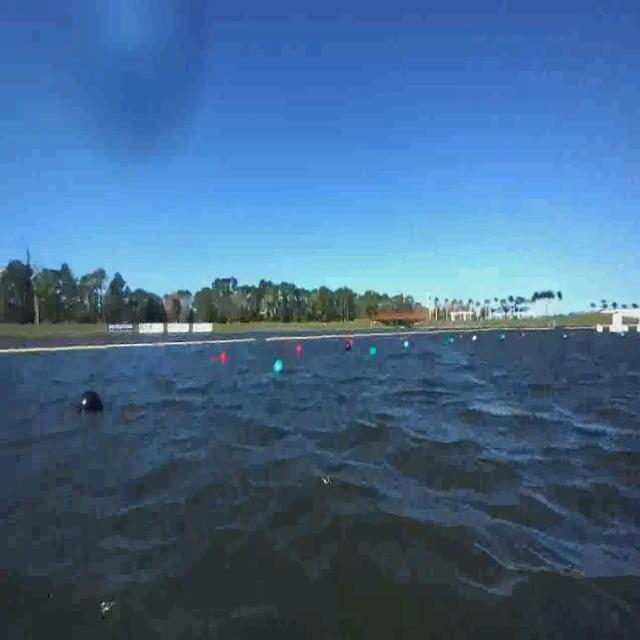black-buoy: (75, 377, 108, 427)
green-buoy: (274, 358, 285, 373), (369, 346, 376, 356)
red-buoy: (215, 346, 232, 374), (296, 344, 302, 354)
